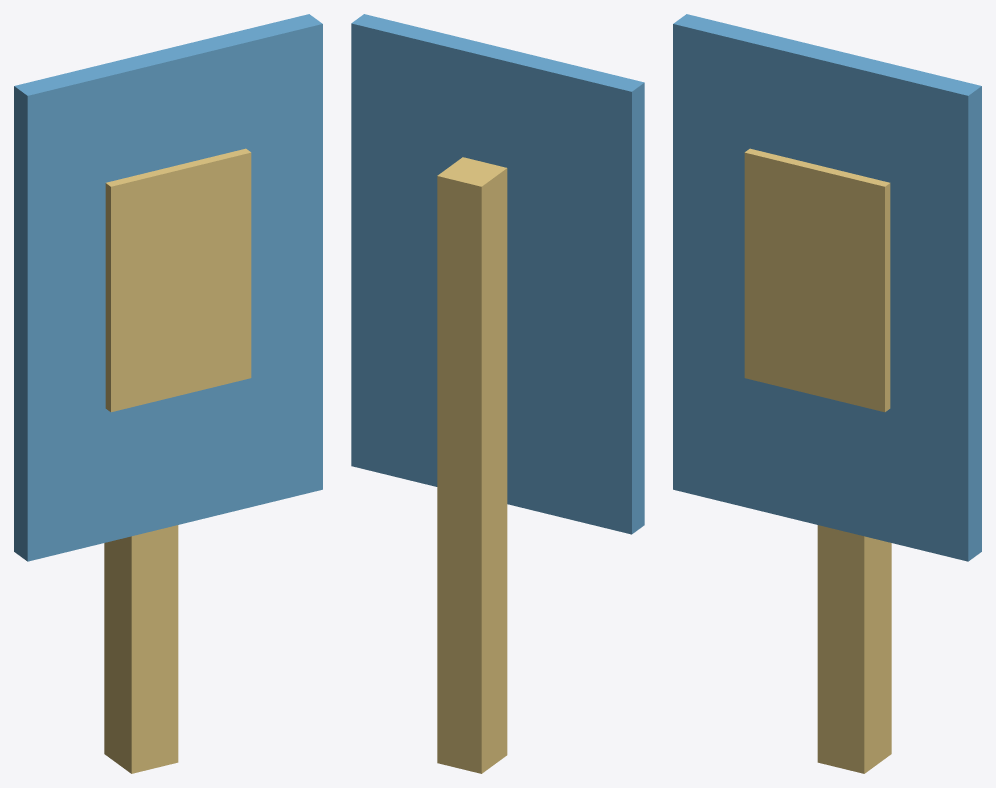
Rendered from Banner_BlueGold.glb.
3 views of the same model, side by side, from view 1: azimuth 30°, elevation 25°; view 2: azimuth 150°, elevation 25°; view 3: azimuth 330°, elevation 25° (orthographic). The views are drawn at different scales.
Visible parts, largest first — view 1: fabric_1, sigil_2, pole_0; view 2: fabric_1, pole_0; view 3: fabric_1, sigil_2, pole_0.
Part boxes in pixels (box(x1,y1,x2,y2)): fabric_1: box(14, 14, 322, 561); sigil_2: box(105, 148, 251, 412); pole_0: box(104, 525, 178, 773); fabric_1: box(351, 14, 644, 534); pole_0: box(437, 157, 507, 773); fabric_1: box(673, 14, 981, 561); sigil_2: box(744, 148, 890, 412); pole_0: box(817, 525, 891, 773).
Bounding box in the file's own units: 0.63 × 1.48 × 0.197.
